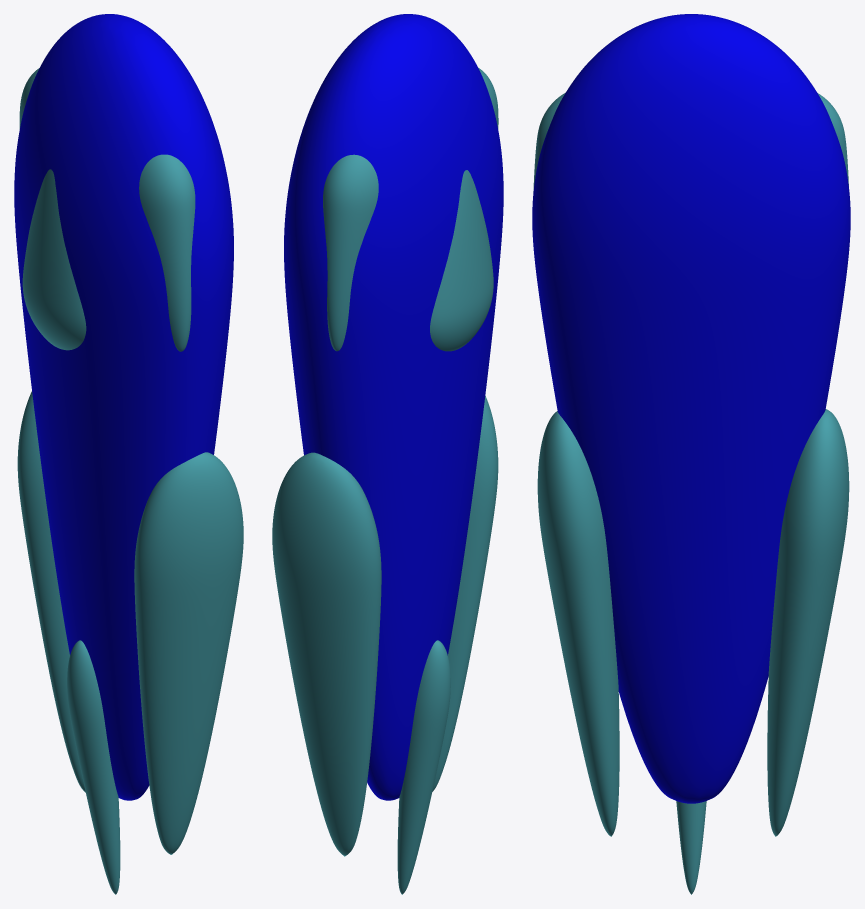
File: RaketaFinal.fbx
3 views of the same model, side by side, from view 1: azimuth 30°, elevation 25°; view 2: azimuth 150°, elevation 25°; view 3: azimuth 270°, elevation 25° (orthographic).
Visible parts, largest first — view 1: pSphere8; view 2: pSphere8; view 3: pSphere8.
Part boxes in pixels (<box>): pSphere8: <box>14,14,243,894</box>; pSphere8: <box>272,14,503,894</box>; pSphere8: <box>532,14,850,894</box>.
Bounding box in the file's own units: 0.8533 × 4.38 × 1.43.
